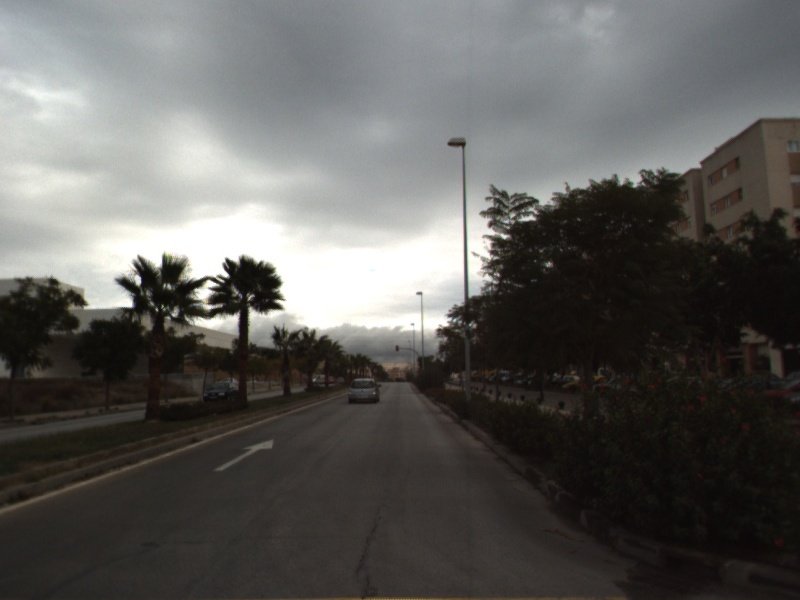STRAIGHT: (212, 437, 276, 473)
